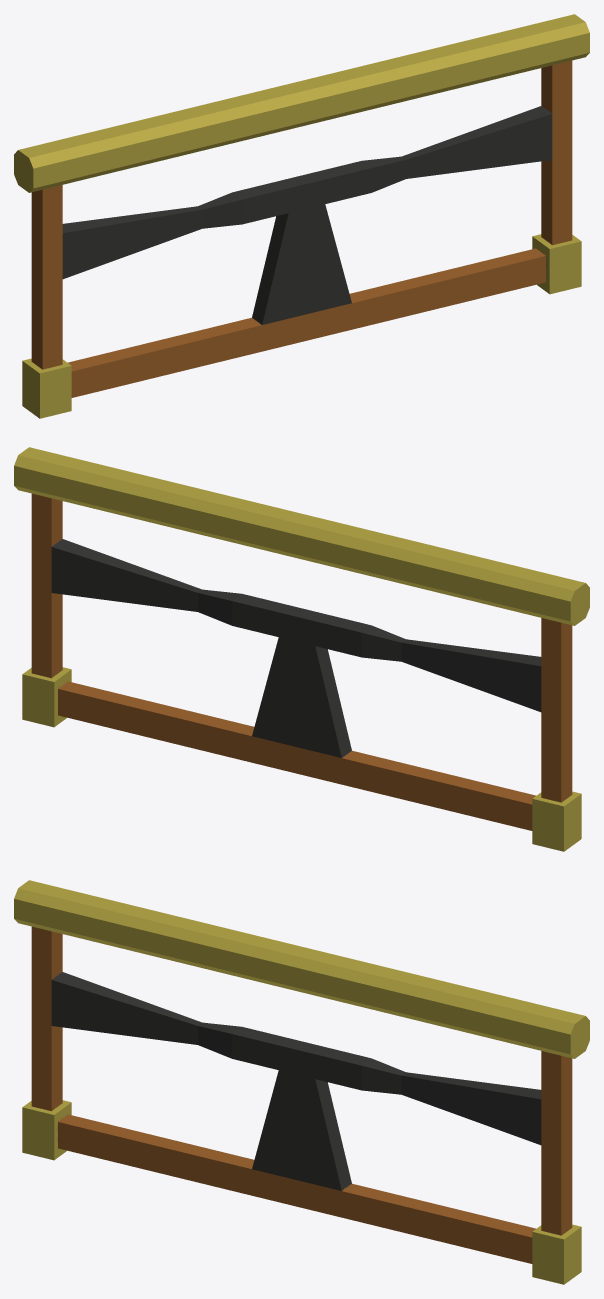
Rendered from GradeLowPoly.fbx.
3 renders of one model, top to bottom at view 1: azimuth 30°, elevation 25°; view 2: azimuth 150°, elevation 25°; view 3: azimuth 330°, elevation 25°, orthographic.
Parts seen in each view (by area): view 1: Cube; view 2: Cube; view 3: Cube.
Part boxes in pixels (<box>): Cube: <box>14,14,589,418</box>; Cube: <box>14,447,589,851</box>; Cube: <box>14,880,589,1284</box>.
Bounding box in the file's own units: 1192 × 533 × 71.71.
